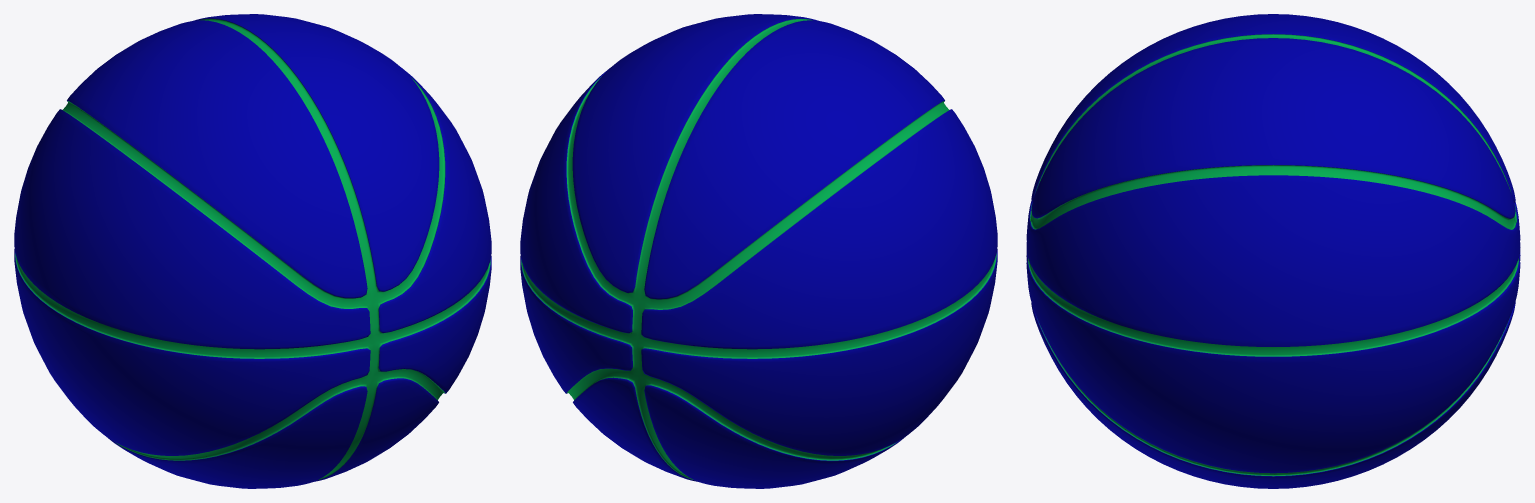
The model's file is basketball.fbx.
The picture shows the model from 3 angles, left to right: view 1: azimuth 30°, elevation 25°; view 2: azimuth 150°, elevation 25°; view 3: azimuth 270°, elevation 25°; orthographic projection.
Parts seen in each view (by area): view 1: Basketball; view 2: Basketball; view 3: Basketball.
Boxes of the visible parts, box(x1,y1,x2,y2) form: Basketball: box(14, 14, 491, 488); Basketball: box(520, 14, 997, 488); Basketball: box(1026, 14, 1520, 488).
Size of the model in its own units: 12.51 by 12.51 by 12.98.
